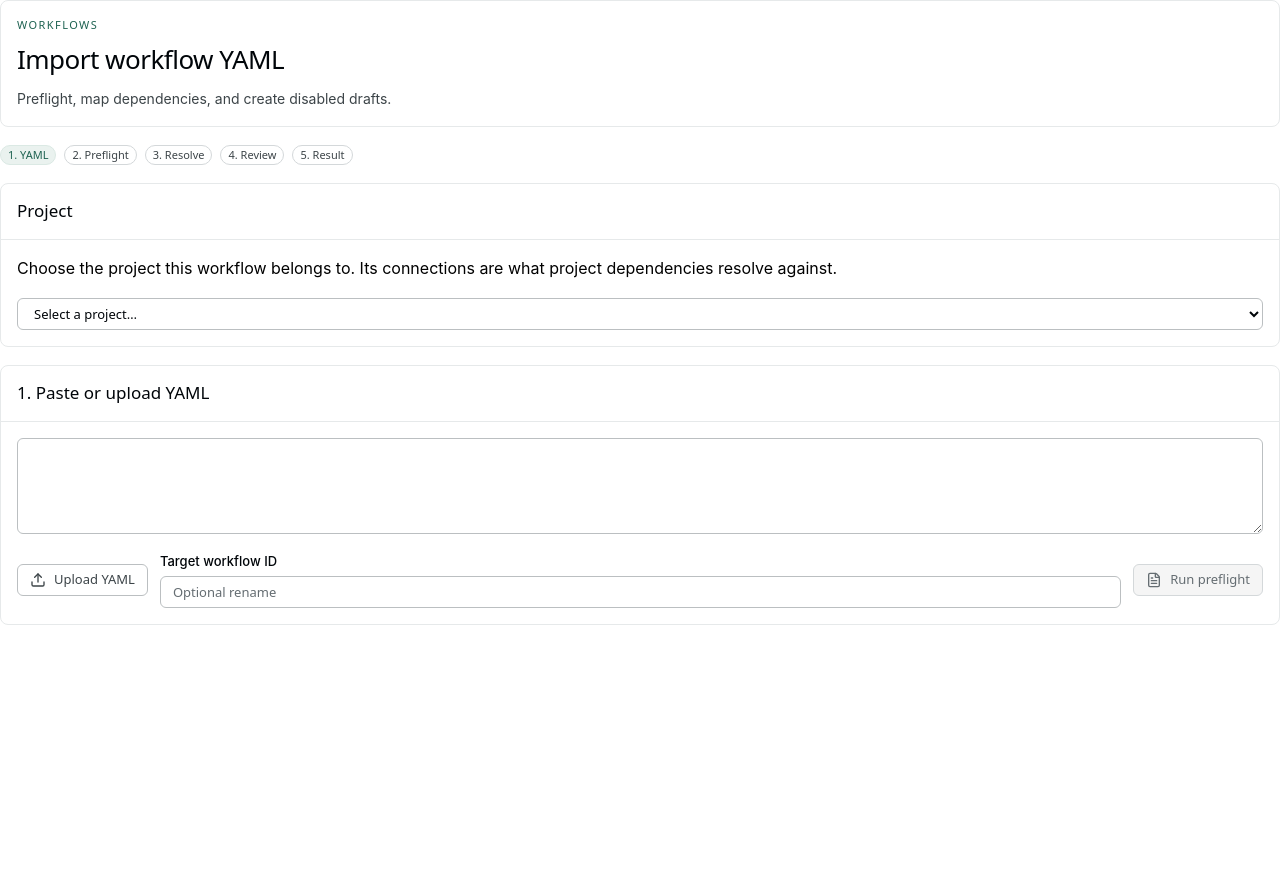
WorkflowsImportPage › discards a preflight result after the YAML changes before it settles
The width and height of the screenshot is (1280, 891).
Type "bundle A" into the text box named "Workflow bundle YAML".
click(640, 486); type("bundle A")  # box [17,438,1263,534]
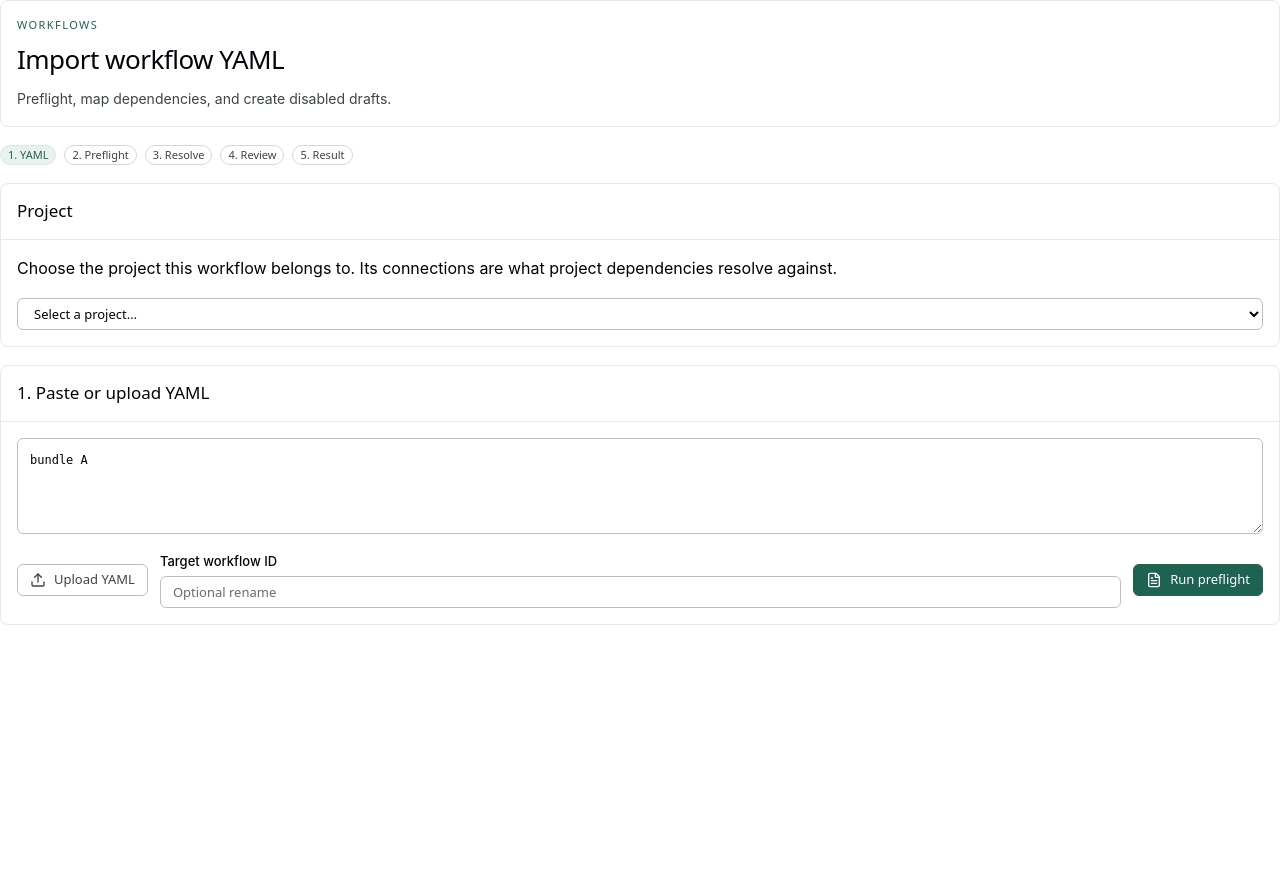
Click the button "Run preflight".
click(1198, 580)  # box [1133,564,1263,596]
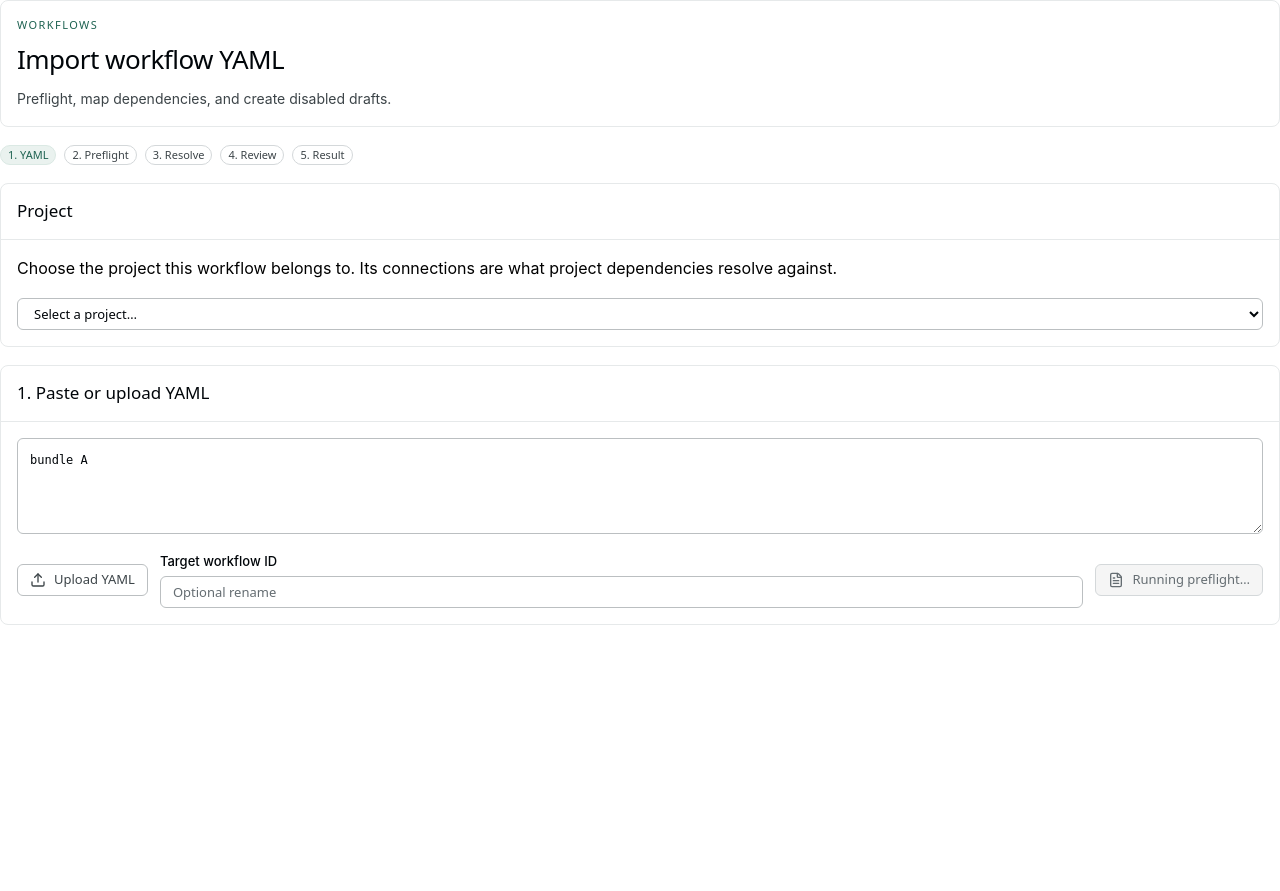
Replace the text in the text box named "Workflow bundle YAML" with "bundle B" at x=640, y=486, box [17,438,1263,534]
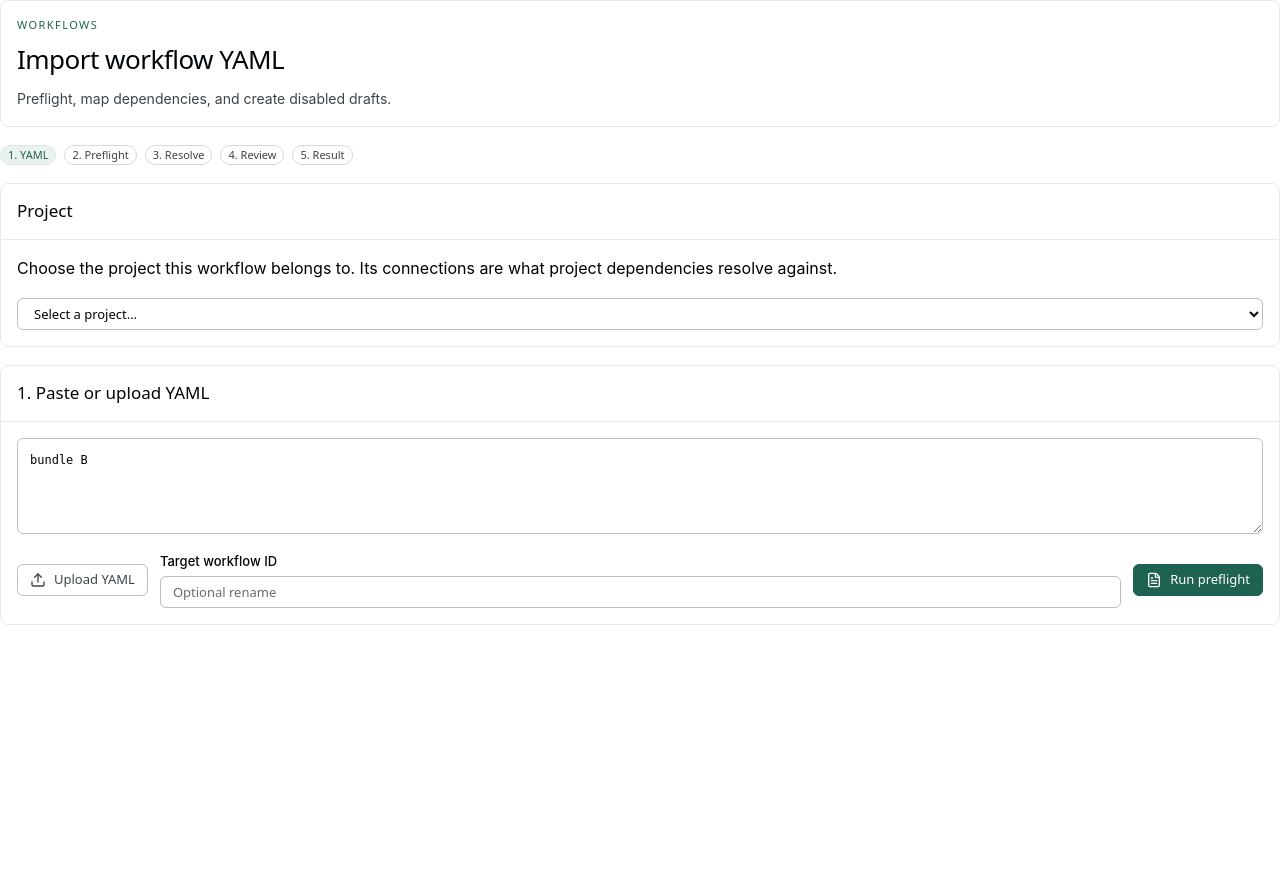
expect the text "2. Preflight summary" is not shown: met
Click the button "Run preflight".
click(1198, 580)  # box [1133,564,1263,596]
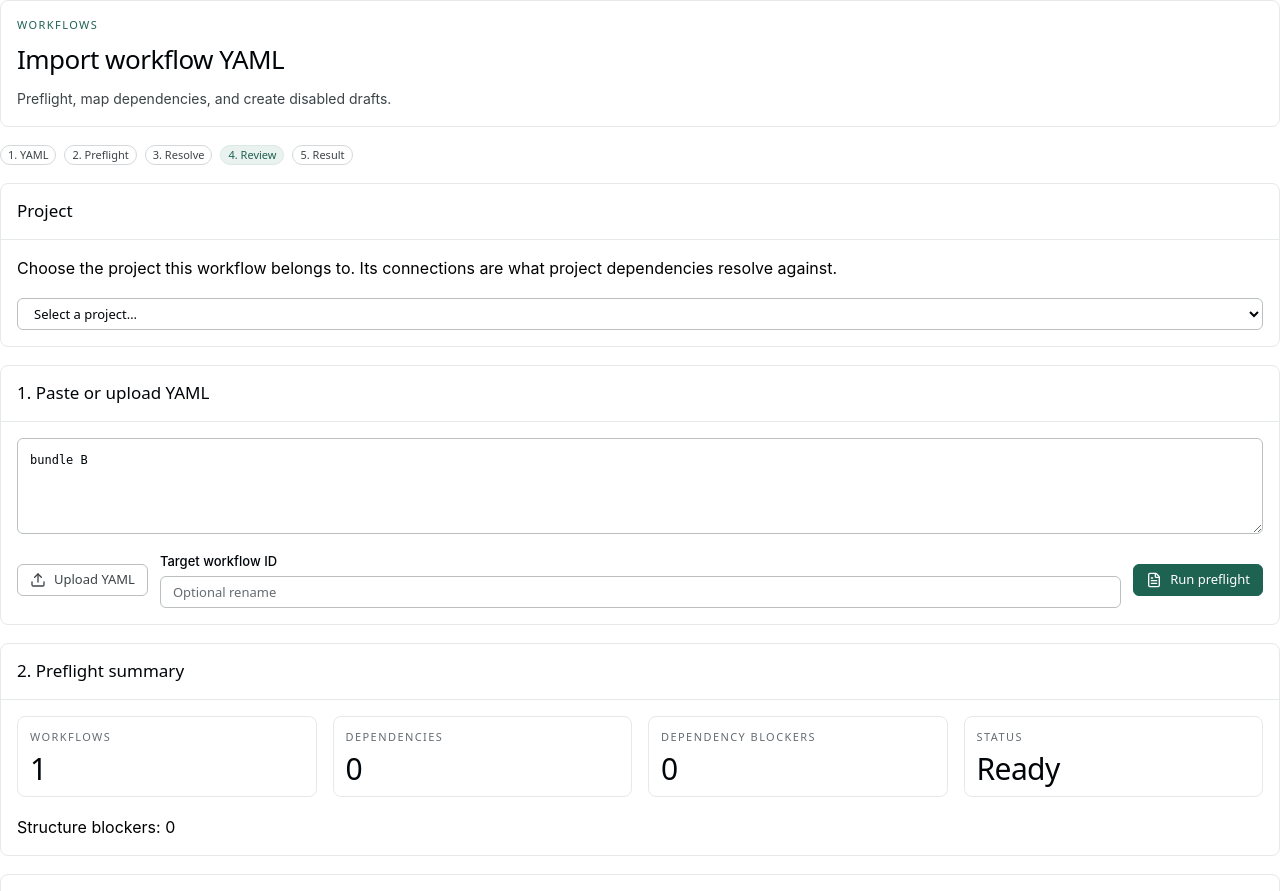
expect the text "Ready" is shown: met, box [976,748,1060,789]
